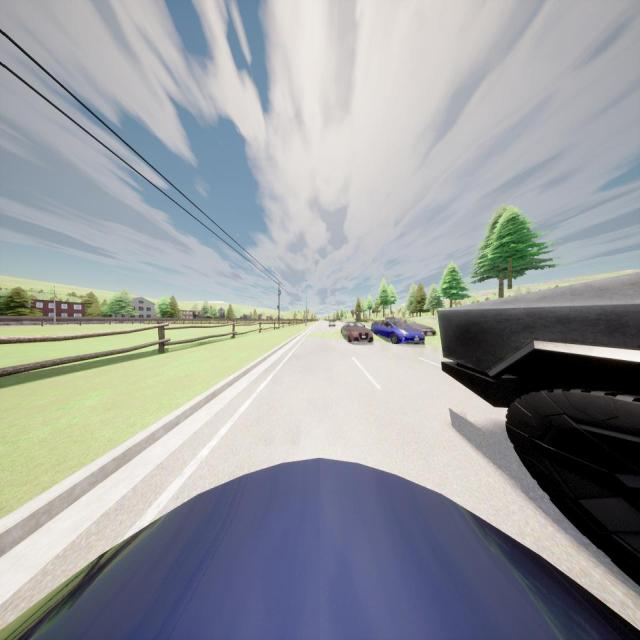Vehicle: (1, 456, 640, 640), (436, 269, 640, 588), (371, 320, 425, 344), (340, 322, 374, 343), (402, 320, 436, 336), (328, 320, 336, 327)
